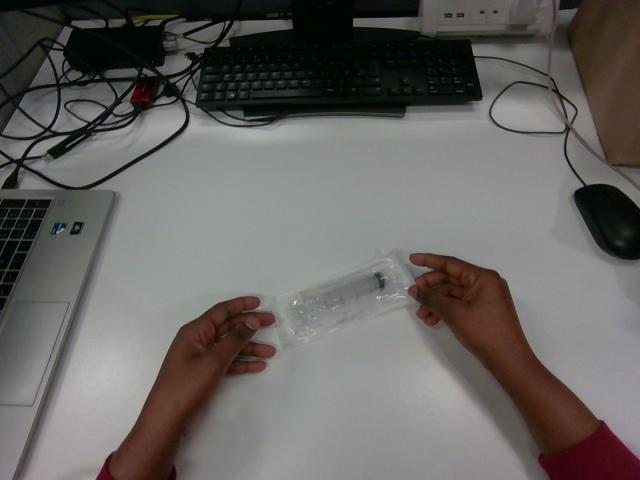syringe: (272, 252, 413, 347)
